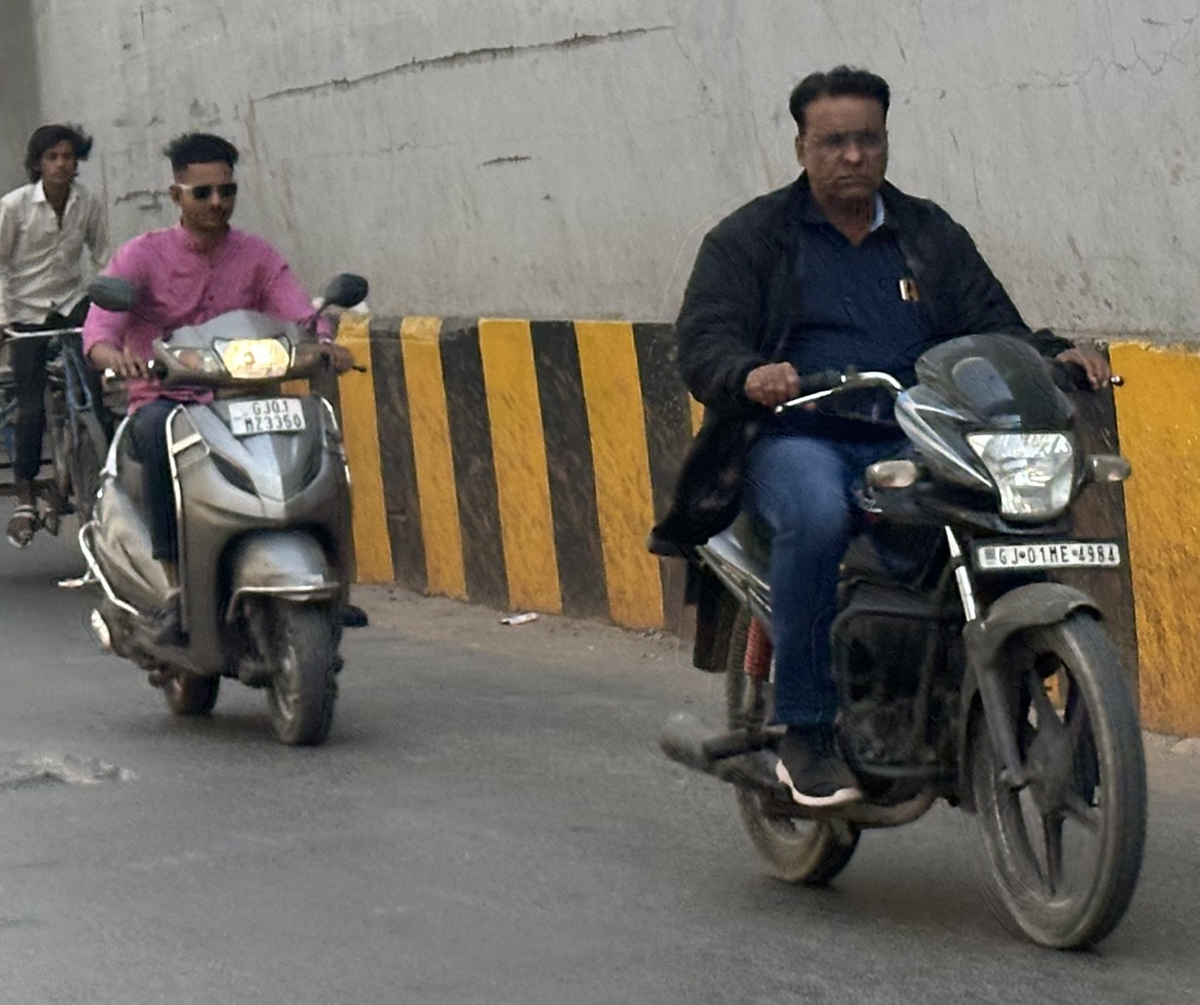BikeWithRider: (637, 56, 1161, 959), (60, 123, 385, 760)
NoHelmet: (776, 57, 909, 217), (155, 127, 255, 244)
